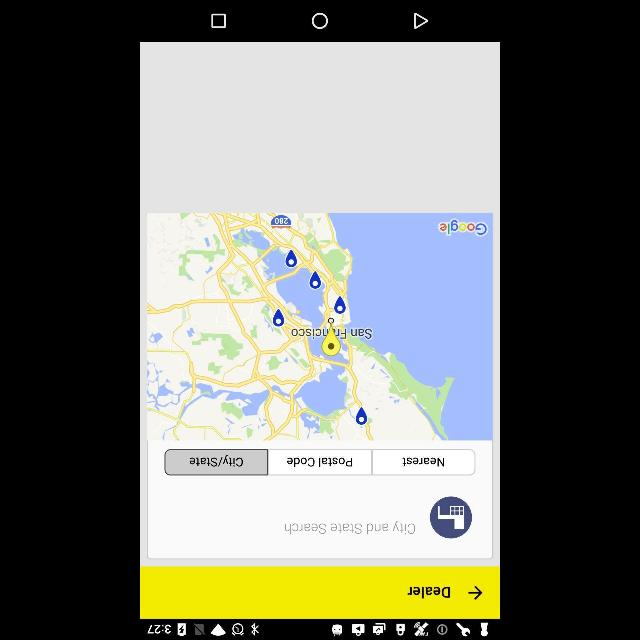icon: (431, 496, 472, 538), (312, 12, 328, 30), (414, 12, 428, 30), (468, 585, 482, 601), (212, 14, 226, 28)
map: (146, 212, 492, 440)
panel: (140, 1, 500, 42)
text: (285, 520, 415, 536), (190, 455, 242, 467), (287, 458, 351, 467), (407, 586, 449, 598), (402, 457, 444, 467)
toolbar: (140, 566, 500, 618)
uppertaskbar: (140, 620, 500, 640)
